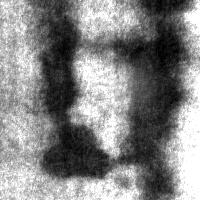patches: (119, 1, 190, 199), (32, 1, 109, 180), (96, 55, 160, 119)
